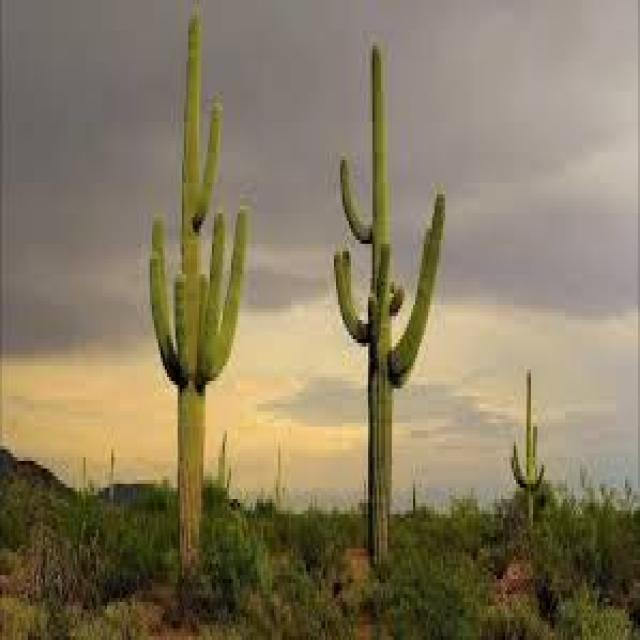cactus: (297, 15, 478, 466)
